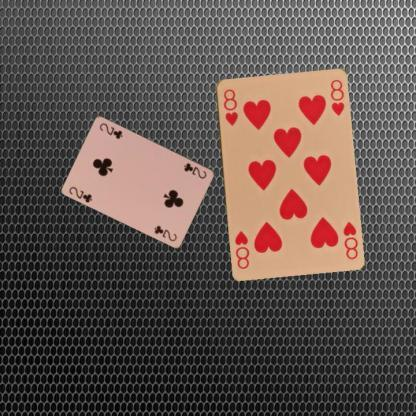2c: (66, 184, 94, 204), (181, 160, 208, 180)
8h: (340, 218, 359, 260), (221, 86, 239, 127)
